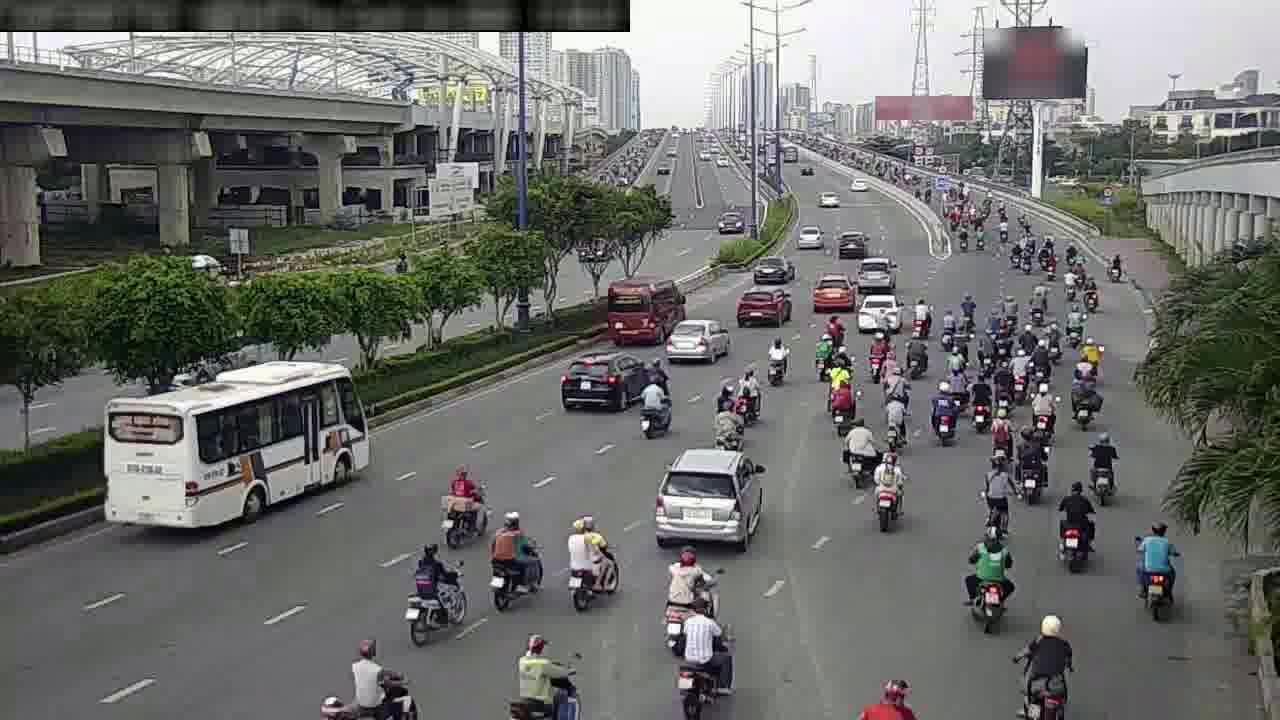14: (93, 357, 362, 527), (604, 283, 682, 340)
container: (652, 449, 766, 549), (563, 347, 647, 415), (664, 313, 727, 368), (735, 280, 790, 326), (862, 291, 906, 333), (809, 276, 853, 312), (748, 253, 796, 286), (854, 256, 895, 292), (833, 226, 871, 257), (792, 225, 825, 248)
motorbike: (400, 533, 471, 640), (333, 632, 419, 713), (1010, 608, 1080, 701), (675, 604, 740, 700), (483, 512, 544, 612), (510, 630, 583, 713), (1127, 515, 1184, 617), (561, 516, 624, 608), (956, 529, 1015, 622), (663, 542, 722, 623), (1049, 482, 1100, 565), (439, 464, 489, 544), (864, 454, 910, 531), (630, 376, 678, 446), (973, 466, 1015, 541), (1005, 429, 1049, 500), (1080, 429, 1123, 501), (843, 413, 879, 488), (924, 384, 961, 445), (727, 366, 764, 426), (877, 388, 912, 445), (983, 406, 1018, 463), (707, 398, 745, 449), (1025, 380, 1060, 433), (965, 376, 997, 431), (760, 334, 792, 388), (829, 375, 858, 432), (899, 328, 931, 377), (1067, 376, 1099, 423), (807, 331, 838, 379), (1028, 340, 1055, 388), (861, 334, 888, 379), (905, 293, 931, 338), (976, 322, 999, 371), (1061, 303, 1087, 345), (1007, 351, 1029, 399), (820, 307, 846, 346), (944, 358, 966, 401), (1073, 337, 1098, 370), (947, 336, 965, 380), (939, 305, 959, 344), (1027, 284, 1047, 322), (1042, 321, 1063, 356), (1018, 318, 1035, 354), (1083, 274, 1098, 312), (959, 289, 975, 324), (1109, 246, 1124, 281), (1001, 292, 1016, 327)
